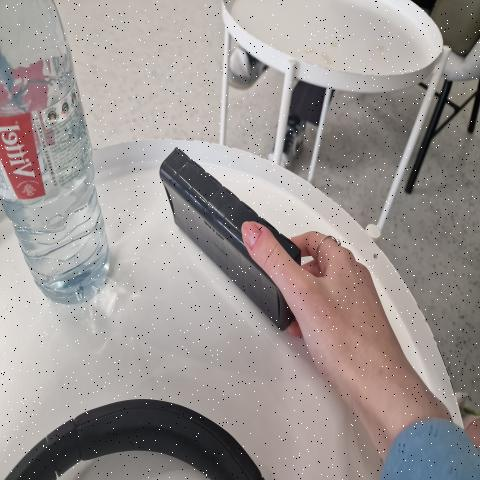Pill-box: (139, 147, 329, 348)
